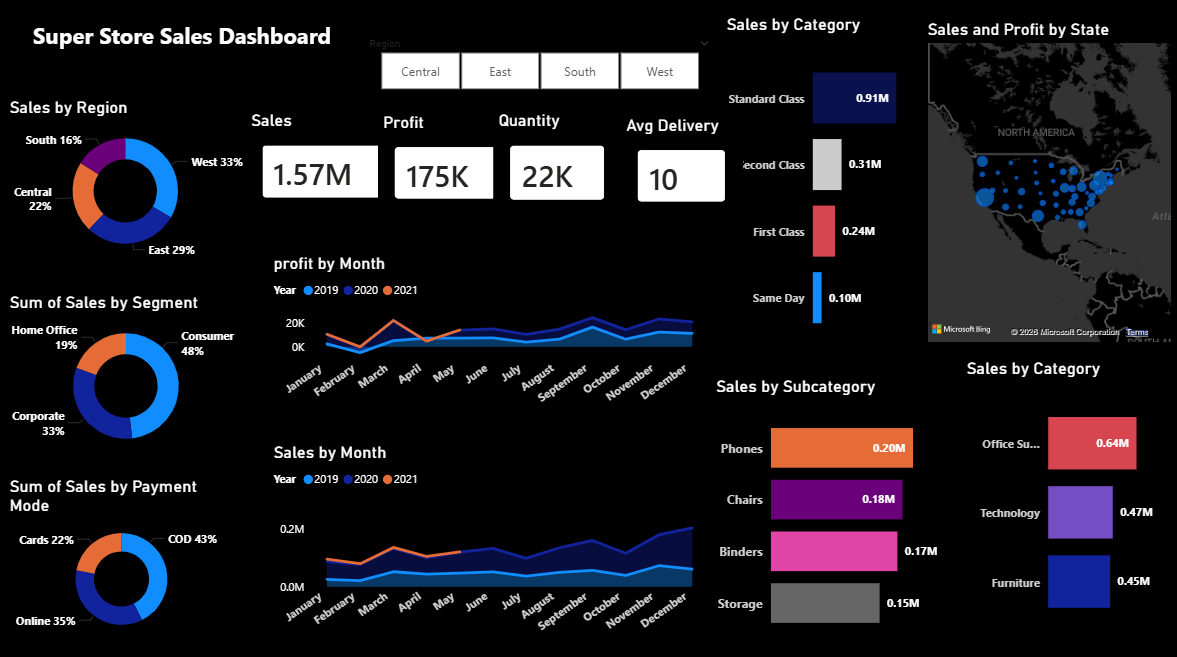

The page's visual inventory and layout, read from the dashboard file:
{"tool":"powerbi","page":{"name":"Sales","canvas":[1280,720],"ordinal":0},"visuals":[{"type":"clusteredBarChart","title":"Sales by Category","fields":{"Category":["SuperStore_Sales_Dataset.Category"],"Y":["Sum(SuperStore_Sales_Dataset.Sales)"]},"box":[1045.7,390,234.3,310],"z":0},{"type":"clusteredBarChart","title":"Sales by Subcategory","fields":{"Y":["Sum(SuperStore_Sales_Dataset.Sales)"],"Category":["SuperStore_Sales_Dataset.Sub-Category"]},"box":[774,410,256,298],"z":1000},{"type":"clusteredBarChart","title":"Sales by Category","fields":{"Y":["Sum(SuperStore_Sales_Dataset.Sales)"],"Category":["SuperStore_Sales_Dataset.Ship Mode"]},"box":[786,18,230,372],"z":2000},{"type":"stackedAreaChart","title":"Sales by Month ","fields":{"Y":["Sum(SuperStore_Sales_Dataset.Sales)"],"Series":["SuperStore_Sales_Dataset.Ship Date.Variation.Date Hierarchy.Year"],"Category":["SuperStore_Sales_Dataset.Ship Date.Variation.Date Hierarchy.Month"]},"box":[294.4,481.5,479.8,226.1],"z":3000},{"type":"stackedAreaChart","title":"profit by Month ","fields":{"Y":["Sum(SuperStore_Sales_Dataset.Profit)"],"Series":["SuperStore_Sales_Dataset.Ship Date.Variation.Date Hierarchy.Year"],"Category":["SuperStore_Sales_Dataset.Ship Date.Variation.Date Hierarchy.Month"]},"box":[294.4,276.5,479.8,175.7],"z":4000},{"type":"map","title":"Sales and Profit by State","fields":{"Category":["SuperStore_Sales_Dataset.State"],"Size":["Sum(SuperStore_Sales_Dataset.Sales)"]},"box":[1004.3,22.9,275.7,357.1],"z":5000},{"type":"donutChart","fields":{"Category":["SuperStore_Sales_Dataset.Segment"],"Y":["Sum(SuperStore_Sales_Dataset.Sales)"]},"box":[8.1,318.8,263.5,183.8],"z":6000},{"type":"donutChart","fields":{"Y":["Sum(SuperStore_Sales_Dataset.Sales)"],"Category":["SuperStore_Sales_Dataset.Payment Mode"]},"box":[8.1,518.9,253.7,182.2],"z":7000},{"type":"textbox","box":[18,18,372,68],"z":8000},{"type":"cardVisual","title":"Sales","fields":{"Data":["Sum(SuperStore_Sales_Dataset.Sales)"]},"box":[270,122,167.5,113.9],"z":9000},{"type":"cardVisual","title":"Profit","fields":{"Data":["Sum(SuperStore_Sales_Dataset.Profit)"]},"box":[413.1,123.6,146.4,112.2],"z":10000},{"type":"cardVisual","title":"Quantity","fields":{"Data":["Sum(SuperStore_Sales_Dataset.Quantity)"]},"box":[538.4,122,138.3,115.5],"z":11000},{"type":"slicer","fields":{"Values":["SuperStore_Sales_Dataset.Region"]},"box":[390.4,37.4,395.3,69.9],"z":12000},{"type":"cardVisual","title":"Avg Delivery","fields":{"Data":["Avg(SuperStore_Sales_Dataset.AvgDelivery)"]},"box":[676.6,126.9,131.8,112.2],"z":13000},{"type":"donutChart","title":"Sales by Region","fields":{"Y":["Sum(SuperStore_Sales_Dataset.Sales)"],"Category":["SuperStore_Sales_Dataset.Region"]},"box":[8.1,107.4,261.9,183.8],"z":14000}]}

Visuals, with their boxes in screenshot pixels (x1, y1, x2, y2), scaled from the page's 1280x720 canvas onto the 1177x657 screenshot:
"Sales by Category" clusteredBarChart: x1=962 y1=356 x2=1176 y2=639
"Sales by Subcategory" clusteredBarChart: x1=712 y1=374 x2=947 y2=646
"Sales by Category" clusteredBarChart: x1=723 y1=16 x2=934 y2=356
"Sales by Month " stackedAreaChart: x1=271 y1=439 x2=712 y2=646
"profit by Month " stackedAreaChart: x1=271 y1=252 x2=712 y2=413
"Sales and Profit by State" map: x1=923 y1=21 x2=1176 y2=347
donutChart - SuperStore_Sales_Dataset.Segment x Sum(SuperStore_Sales_Dataset.Sales): x1=7 y1=291 x2=250 y2=459
donutChart - Sum(SuperStore_Sales_Dataset.Sales) x SuperStore_Sales_Dataset.Payment Mode: x1=7 y1=473 x2=241 y2=640
textbox: x1=17 y1=16 x2=359 y2=78
"Sales" cardVisual: x1=248 y1=111 x2=402 y2=215
"Profit" cardVisual: x1=380 y1=113 x2=514 y2=215
"Quantity" cardVisual: x1=495 y1=111 x2=622 y2=217
slicer - SuperStore_Sales_Dataset.Region: x1=359 y1=34 x2=722 y2=98
"Avg Delivery" cardVisual: x1=622 y1=116 x2=743 y2=218
"Sales by Region" donutChart: x1=7 y1=98 x2=248 y2=266
